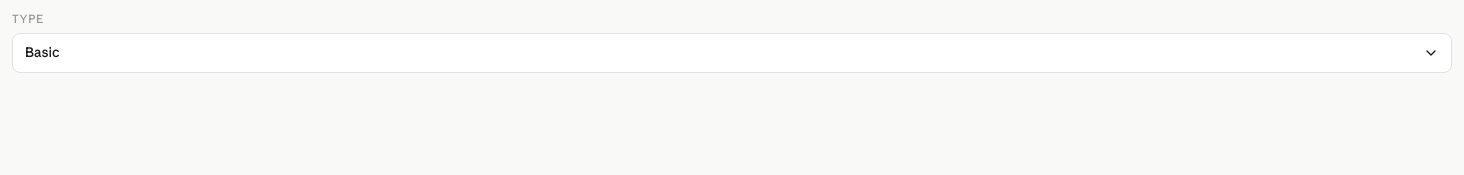
Test case: Select: arrow keys move through options and Esc closes
Click the button named "Type" at [42, 52], box [12,33,1452,72]
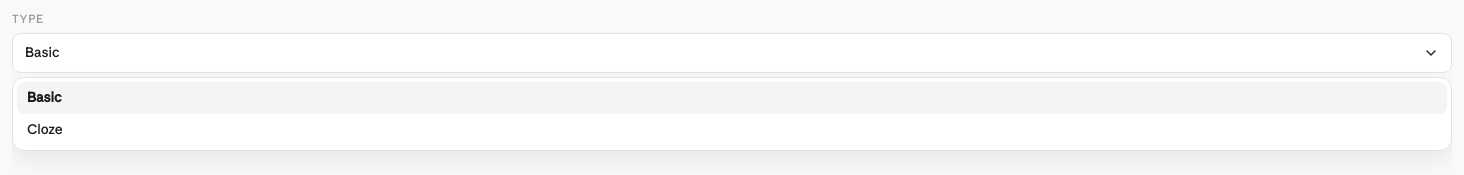
Press Arrowdown Enter
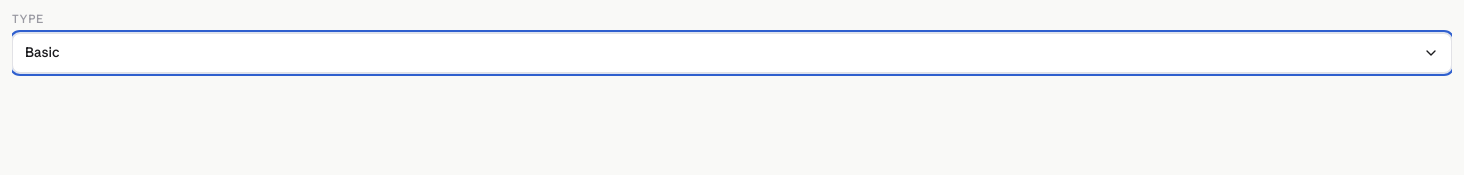
Click the button named "Type" at [42, 52], box [12,33,1452,72]
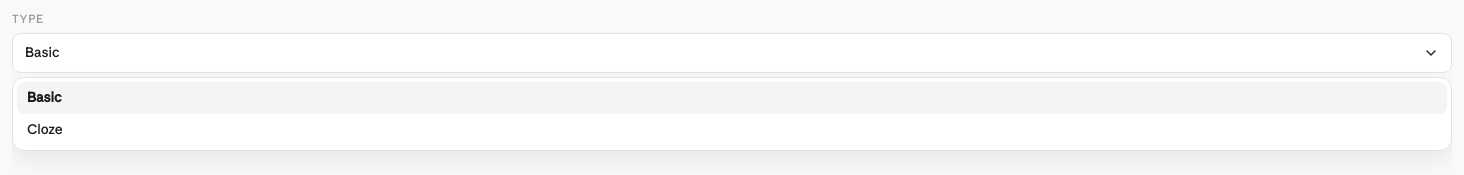
Press Escape
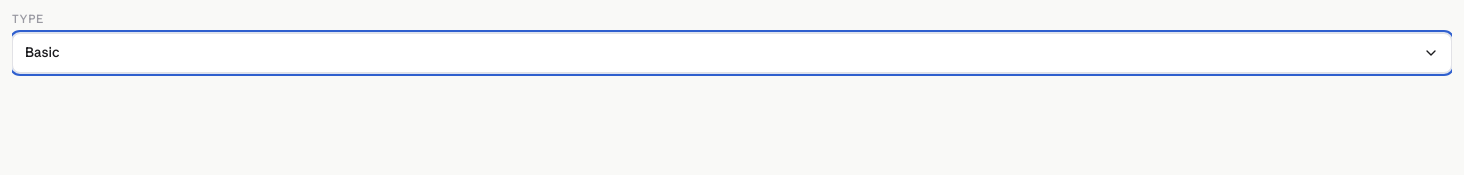
Now the list is gone
